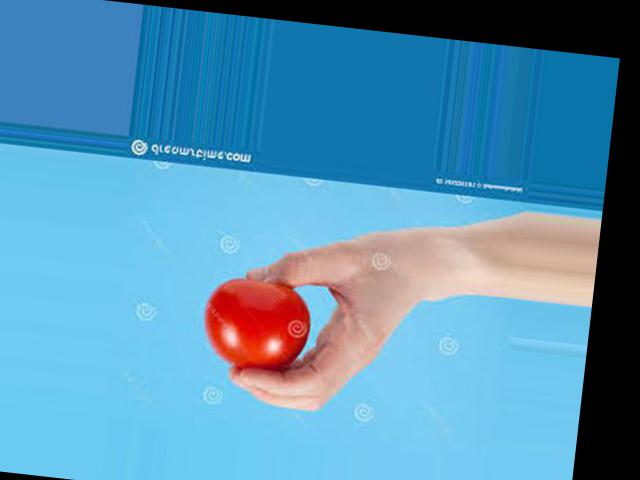tomato: (199, 275, 313, 376)
